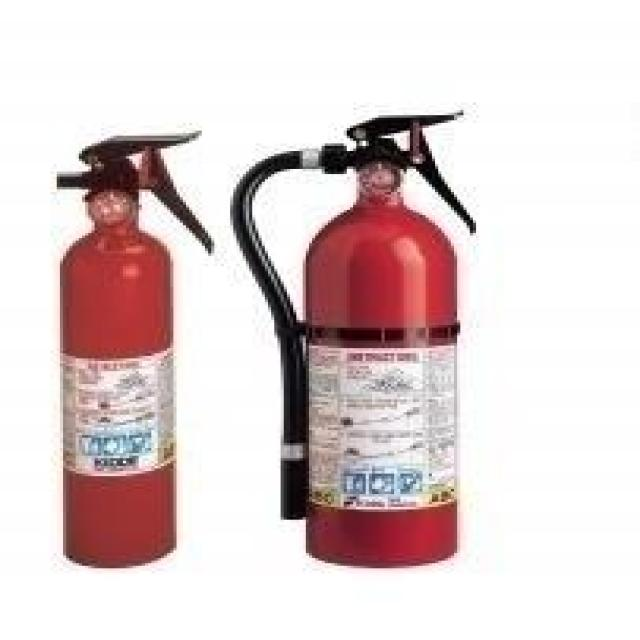fire_extinguisher: (219, 105, 478, 573), (41, 124, 214, 572)
